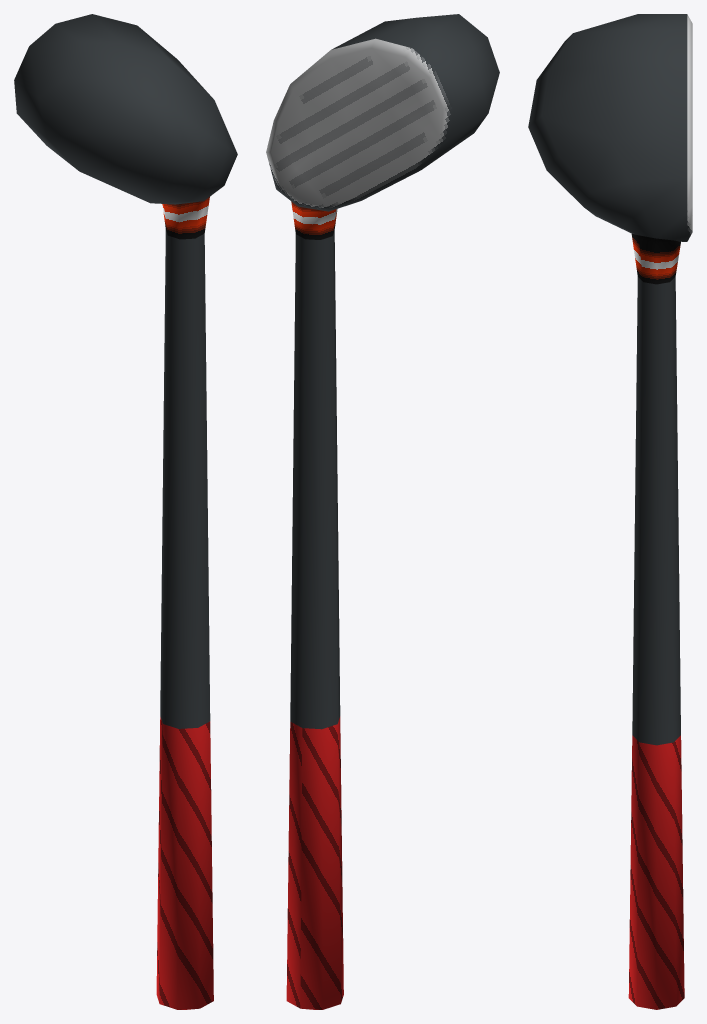
The model's file is club_wood.glb.
3 renders of one model, left to right at view 1: azimuth 30°, elevation 25°; view 2: azimuth 150°, elevation 25°; view 3: azimuth 270°, elevation 25°, orthographic. The views are drawn at different scales.
Parts seen in each view (by area): view 1: polygon0.002, polygon1.002; view 2: polygon0.002, polygon1.002; view 3: polygon0.002, polygon1.002.
Boxes of the visible parts, bbox=[...] form: polygon0.002: bbox=[14, 14, 237, 728]; polygon1.002: bbox=[156, 717, 213, 1009]; polygon0.002: bbox=[266, 14, 499, 729]; polygon1.002: bbox=[286, 716, 343, 1009]; polygon0.002: bbox=[528, 14, 692, 745]; polygon1.002: bbox=[628, 735, 684, 1009].
Size of the model in its own units: 0.0171 by 0.0864 by 0.0137.
2 materials, 2 textured.
